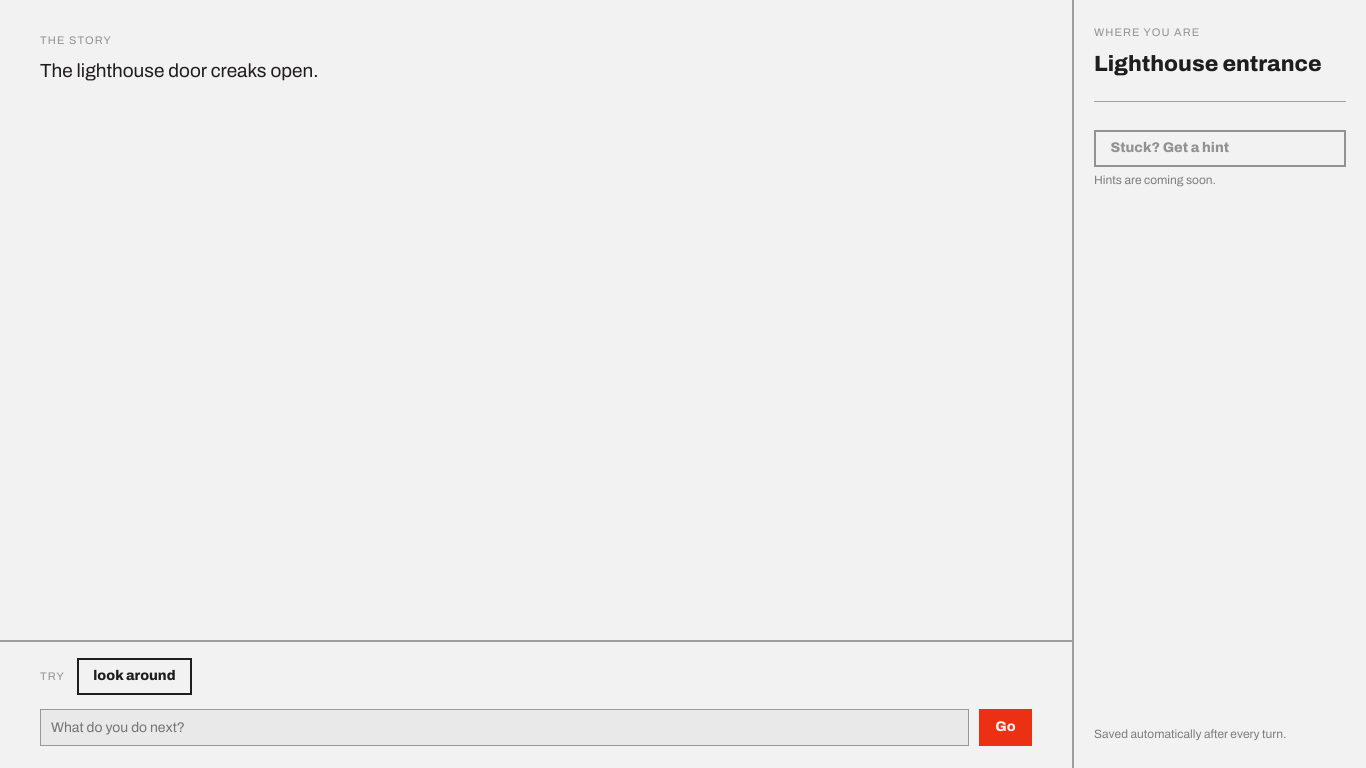
it: Autosave disclosure (008-core-gameplay-done, FR-017, SC-014) › keeps the label visible once the session has concluded
The width and height of the screenshot is (1366, 768).
In the field labelled "What do you do next?": (504, 728) [40,709,969,746], type "escape"
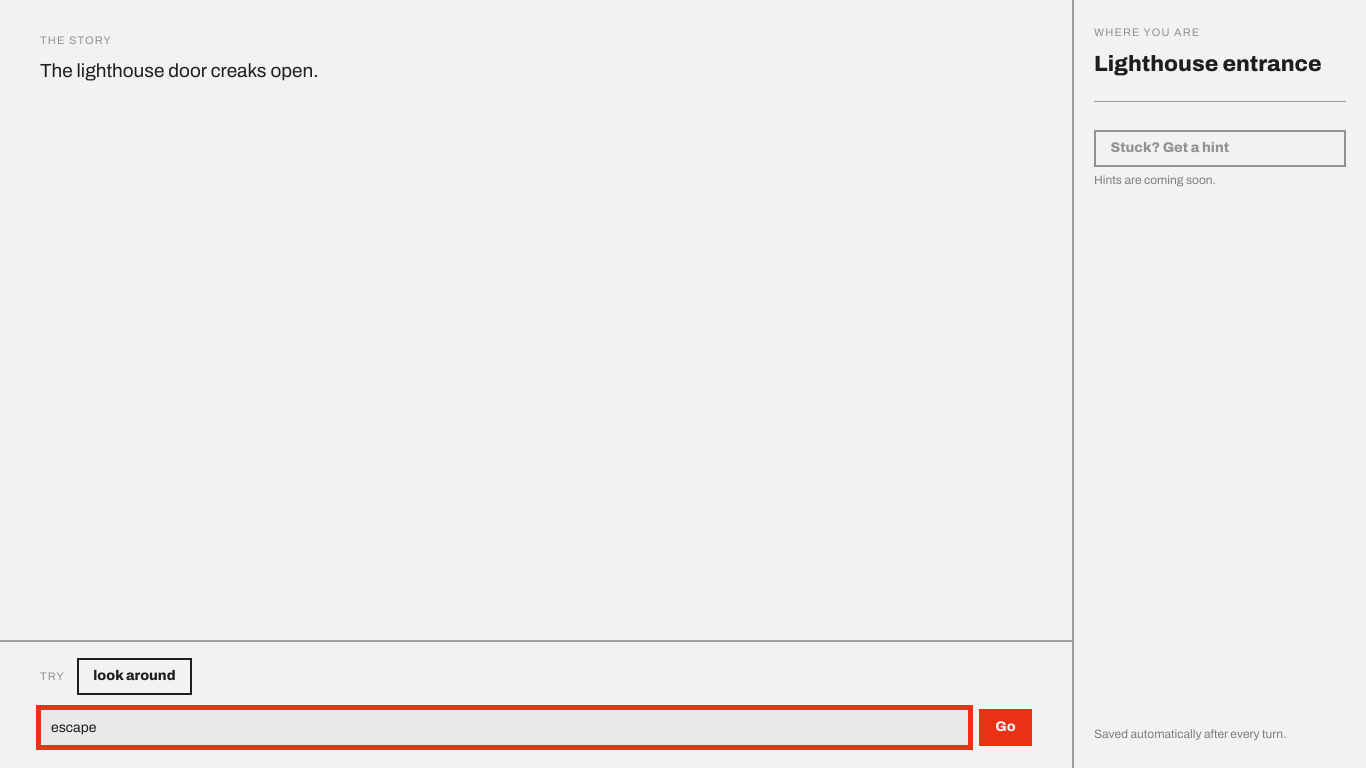
Click the button "Go": (1005, 728) [979,709,1032,746]
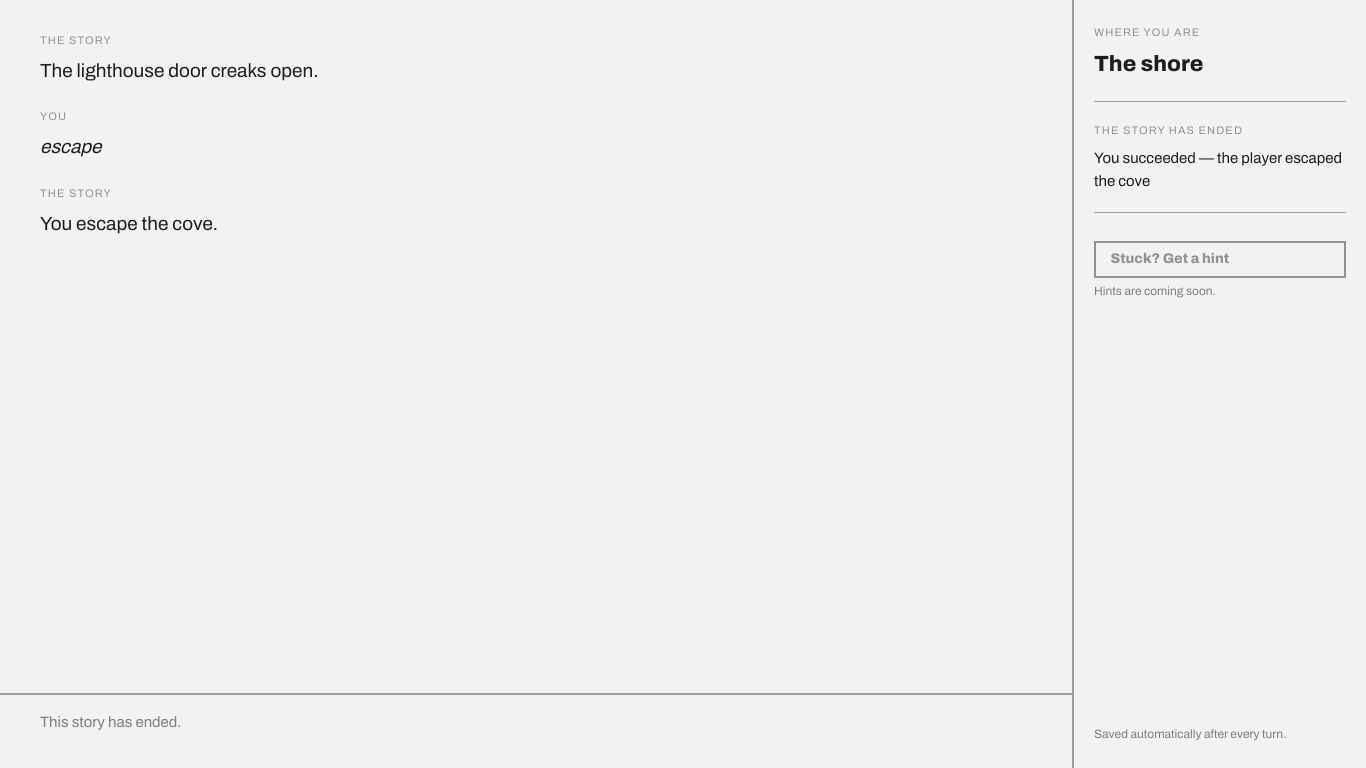
expect the text "Saved automatically after every turn." is shown: met, box [1094,727,1286,741]
expect the text "This story has ended." is shown: met, box [40,714,182,730]
